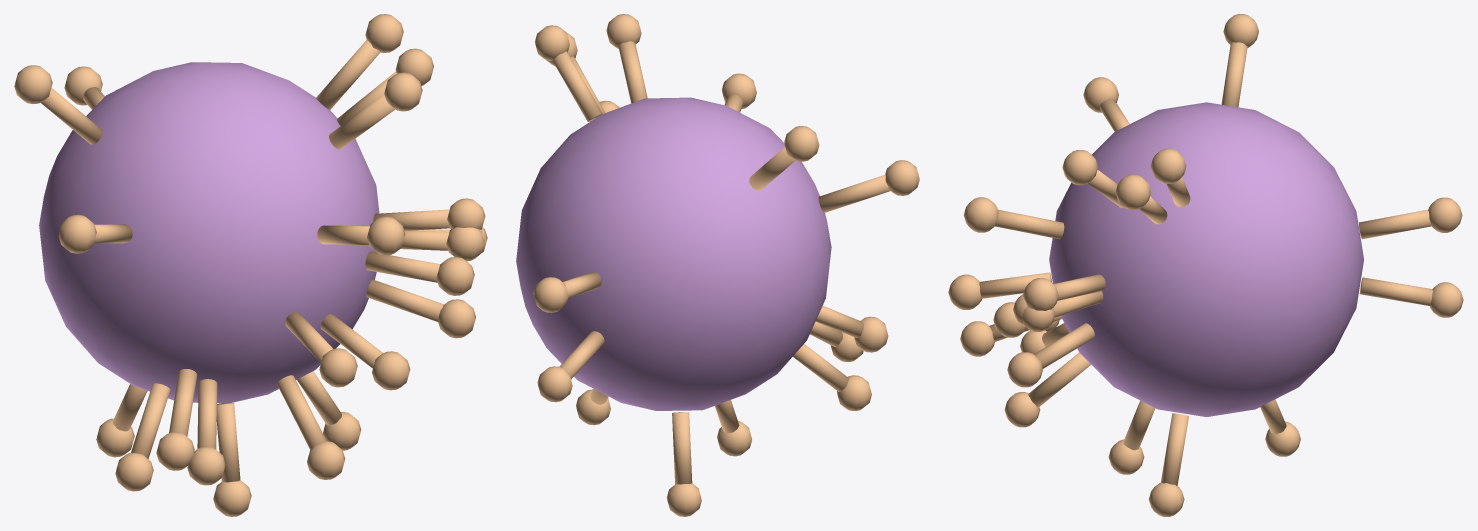
The model's file is virus_particle.glb.
3 views of the same model, side by side, from view 1: azimuth 30°, elevation 25°; view 2: azimuth 150°, elevation 25°; view 3: azimuth 270°, elevation 25° (orthographic). The views are drawn at different scales.
Parts seen in each view (by area): view 1: Icosphere; view 2: Icosphere; view 3: Icosphere.
Part boxes in pixels (x1,y1,x2,y2): Icosphere: (14, 14, 487, 516); Icosphere: (516, 14, 919, 516); Icosphere: (948, 14, 1463, 516).
Bounding box in the file's own units: 0.0793 × 0.0859 × 0.1.
